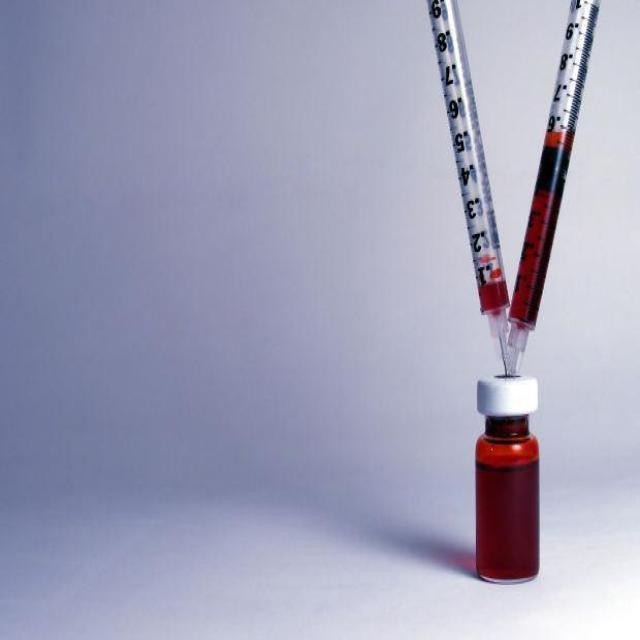flood: (514, 126, 574, 340), (481, 453, 539, 584)
